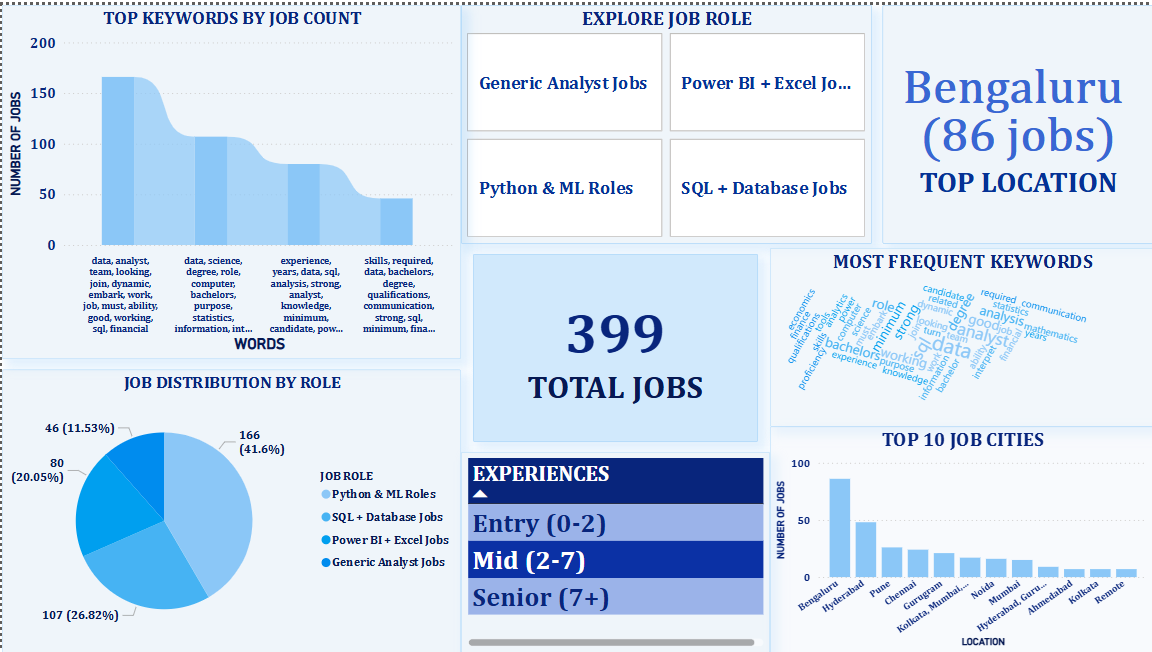

The dashboard page shown, as its layout file describes it:
{"tool":"powerbi","page":{"name":"Page 1","canvas":[1280,720],"ordinal":0},"visuals":[{"type":"advancedSlicerVisual","title":"EXPLORE JOB ROLE","fields":{"Values":["jobs_with_top_words.Cluster_Label"]},"box":[510,0,456.7,265],"z":0},{"type":"pieChart","title":"JOB DISTRIBUTION BY ROLE","fields":{"Category":["jobs_with_top_words.Cluster_Label"],"Y":["CountNonNull(jobs_with_top_words.Cluster)"]},"box":[0,405,510,315],"z":1000},{"type":"ribbonChart","title":"TOP KEYWORDS BY JOB COUNT","fields":{"Category":["jobs_with_top_words.Word"],"Y":["CountNonNull(jobs_with_top_words.Cluster)"]},"box":[0,0,510,393.3],"z":2000},{"type":"card","fields":{"Values":["CountNonNull(jobs_with_top_words.Cluster)"]},"box":[523.3,276.7,316.7,208.3],"z":3000},{"type":"card","fields":{"Values":["jobs_with_top_words.TopLocation"]},"box":[978.3,0,301.7,265],"z":4000},{"type":"tableEx","fields":{"Values":["jobs_with_top_words.ExperienceBucket"]},"box":[510,496.7,343.3,223.3],"z":5000},{"type":"WordCloud1447959067750","title":"MOST FREQUENT KEYWORDS","fields":{"Category":["jobs_with_top_words.Word"],"Values":["Count(jobs_with_top_words.TOTAL JOBS)"]},"box":[853.3,270,426.7,198.3],"z":6000},{"type":"lineClusteredColumnComboChart","title":"TOP 10 JOB CITIES","fields":{"Category":["jobs_with_top_words.Location"],"Y":["CountNonNull(jobs_with_top_words.TOTAL JOBS)"]},"box":[853.3,468.3,426.7,251.7],"z":7000}]}

Visuals, with their boxes in screenshot pixels (x1, y1, x2, y2), scaled from the page's 1280x720 canvas onto the 1152x652 screenshot:
"EXPLORE JOB ROLE" advancedSlicerVisual: bbox(459, 0, 870, 240)
"JOB DISTRIBUTION BY ROLE" pieChart: bbox(0, 367, 459, 651)
"TOP KEYWORDS BY JOB COUNT" ribbonChart: bbox(0, 0, 459, 356)
card - CountNonNull(jobs_with_top_words.Cluster): bbox(471, 251, 756, 439)
card - jobs_with_top_words.TopLocation: bbox(880, 0, 1151, 240)
tableEx - jobs_with_top_words.ExperienceBucket: bbox(459, 450, 768, 651)
"MOST FREQUENT KEYWORDS" WordCloud1447959067750: bbox(768, 244, 1151, 424)
"TOP 10 JOB CITIES" lineClusteredColumnComboChart: bbox(768, 424, 1151, 651)
